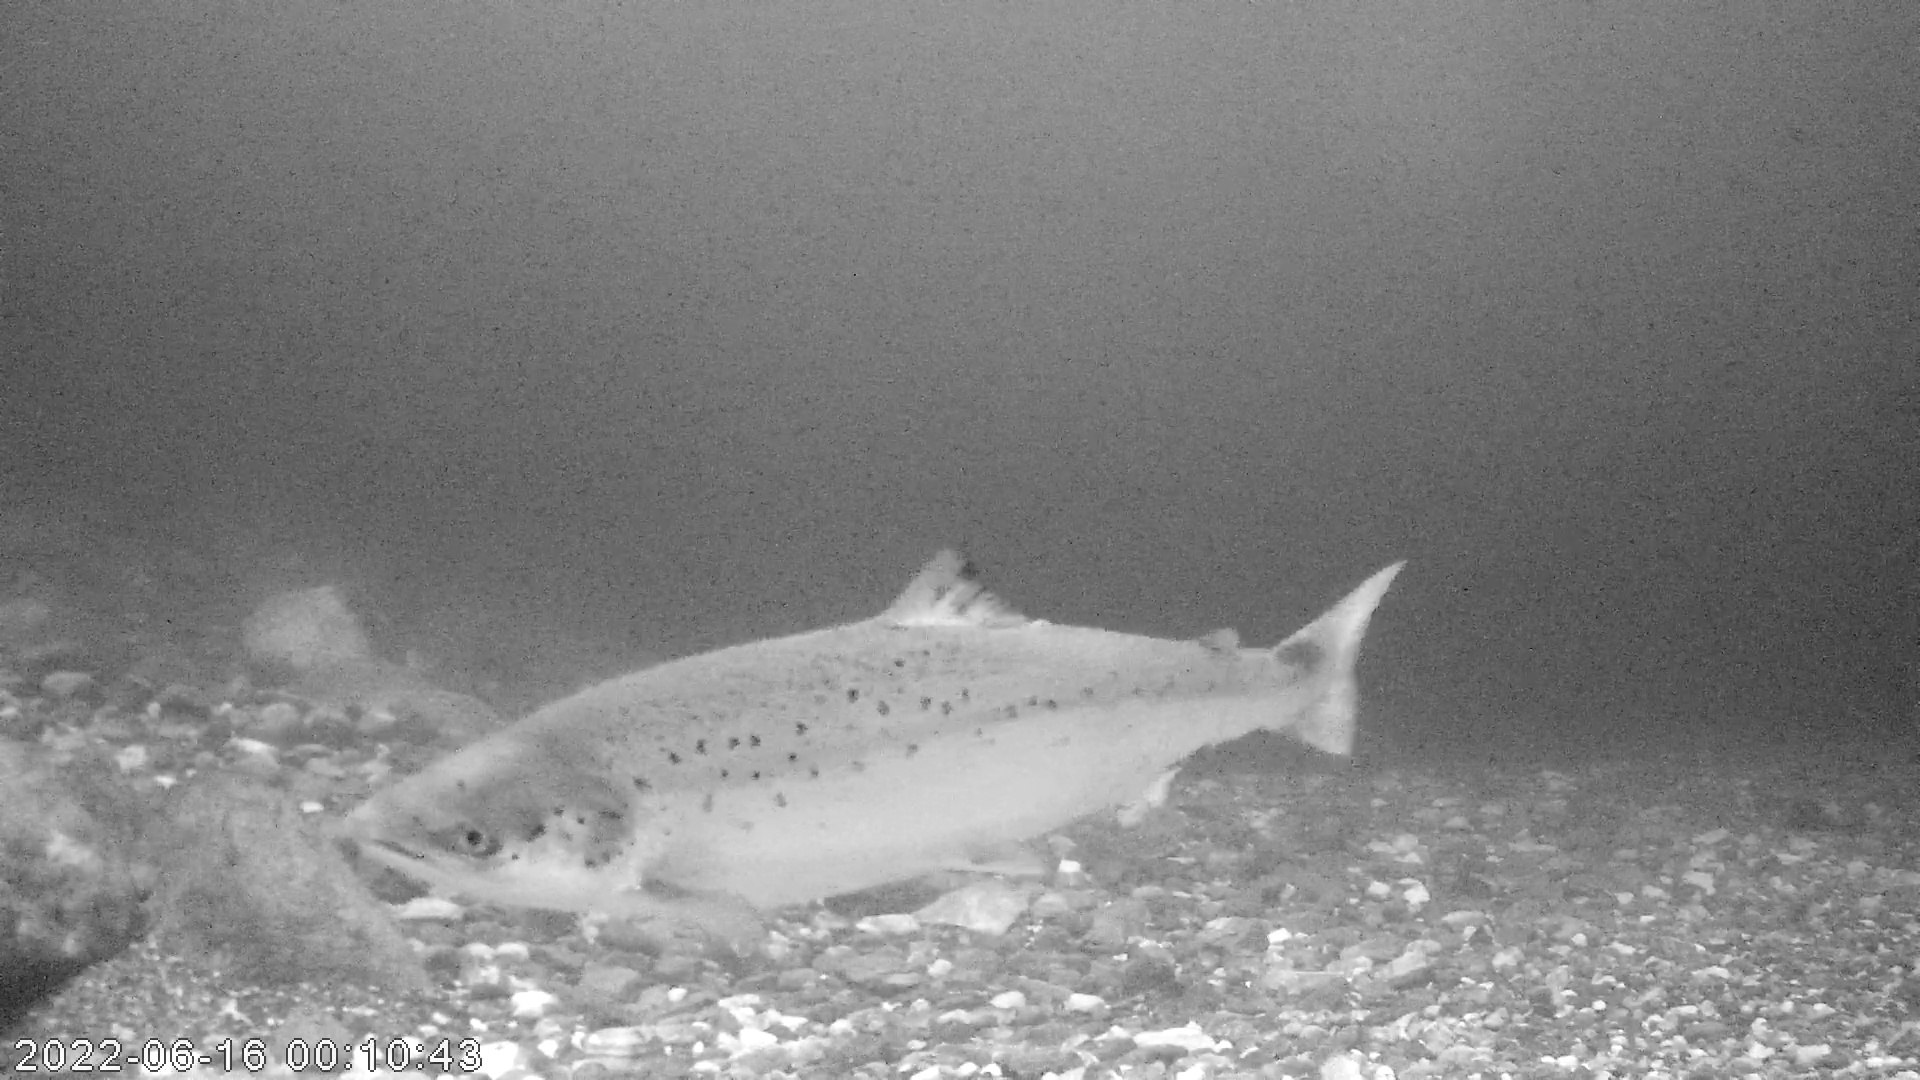salmon: (338, 537, 1414, 945)
